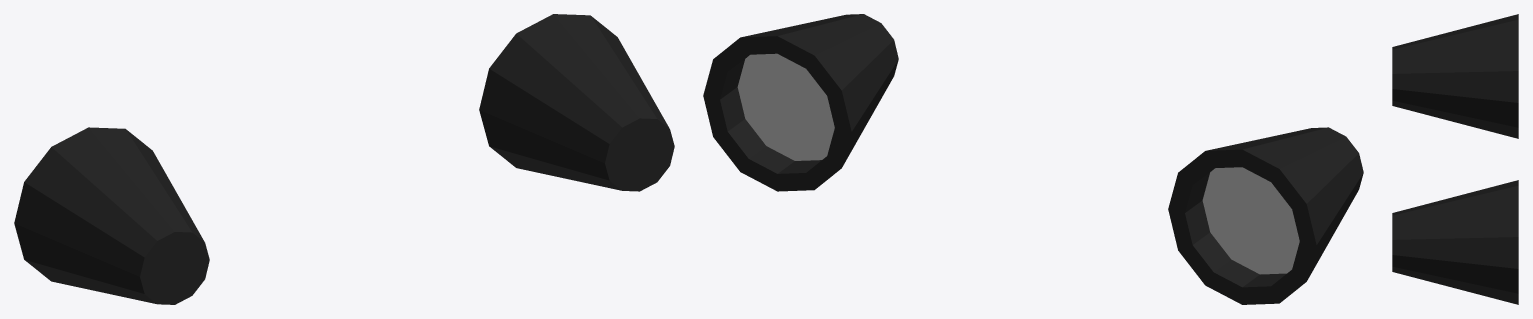
File: exhaust2.glb
The picture shows the model from 3 angles, left to right: view 1: azimuth 30°, elevation 25°; view 2: azimuth 150°, elevation 25°; view 3: azimuth 270°, elevation 25°; orthographic projection. The views are drawn at different scales.
Parts seen in each view (by area): view 1: exhaust2; view 2: exhaust2; view 3: exhaust2.
Part boxes in pixels (box(x1,y1,x2,y2)): exhaust2: box(14, 14, 674, 304); exhaust2: box(703, 14, 1363, 304); exhaust2: box(1392, 14, 1518, 304).
Size of the model in its own units: 1.17 by 0.2842 by 0.2865.
Materials: 1 (1 with a texture image).
